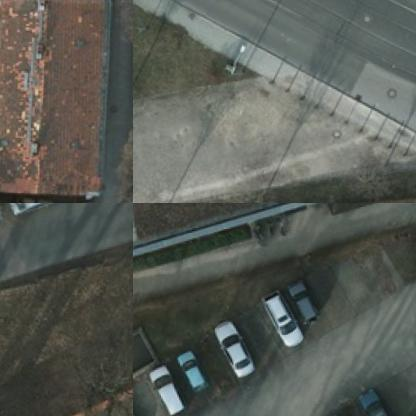car: (267, 295, 312, 346), (216, 323, 261, 374), (151, 366, 189, 415), (287, 276, 324, 326), (180, 350, 214, 390), (360, 388, 406, 415), (10, 203, 70, 218)
